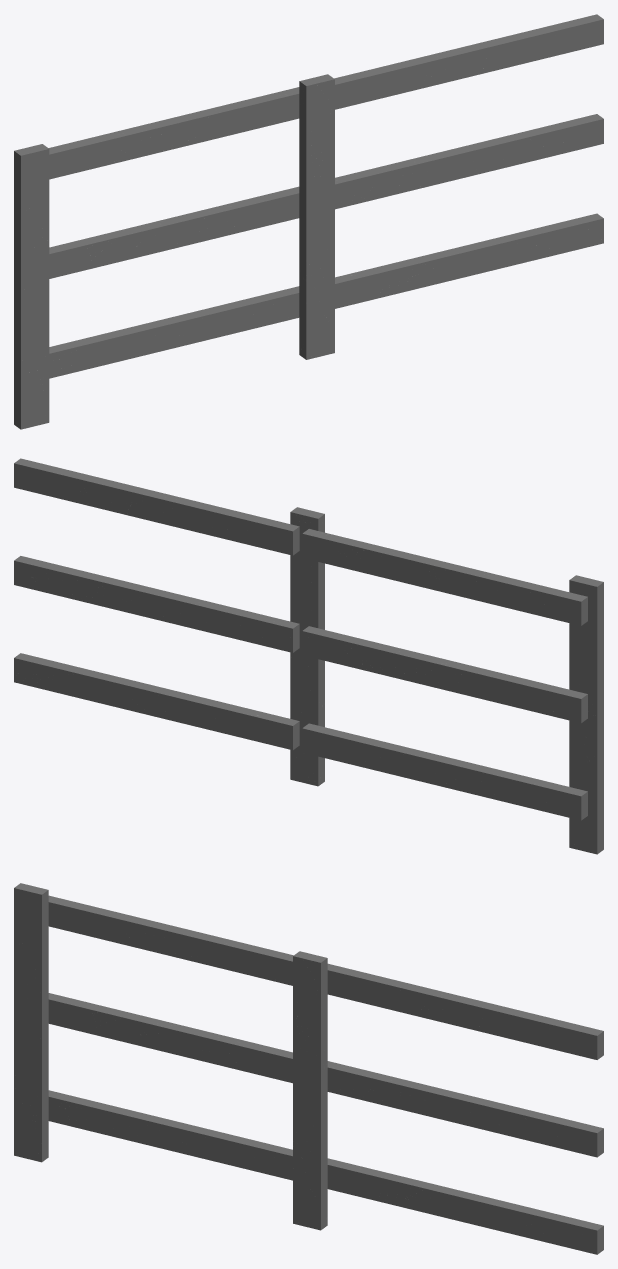
File: Fence.fbx
3 renders of one model, top to bottom at view 1: azimuth 30°, elevation 25°; view 2: azimuth 150°, elevation 25°; view 3: azimuth 330°, elevation 25°, orthographic. The views are drawn at different scales.
Visible parts, largest first — view 1: Fence; view 2: Fence; view 3: Fence.
Part boxes in pixels (x1,y1,x2,y2): Fence: (14, 14, 603, 429); Fence: (14, 458, 603, 854); Fence: (14, 883, 603, 1254).
Bounding box in the file's own units: 2480 × 1100 × 100.
